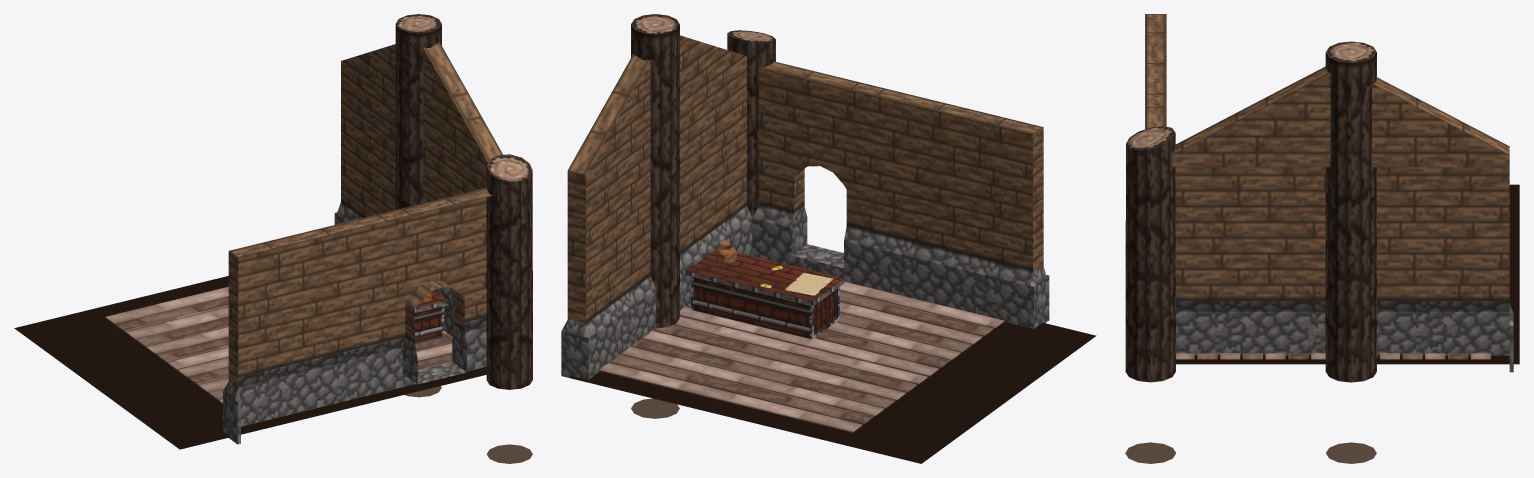
Rendered from TitleScreen.fbx.
The picture shows the model from 3 angles, left to right: view 1: azimuth 30°, elevation 25°; view 2: azimuth 150°, elevation 25°; view 3: azimuth 270°, elevation 25°; orthographic projection. The views are drawn at different scales.
Visible parts, largest first — view 1: Counter; view 2: Counter, Counter.001; view 3: Counter.
Boxes of the visible parts, x1,y1,x2,y2 form: Counter: [14, 14, 532, 463]; Counter: [561, 14, 1096, 463]; Counter.001: [785, 272, 833, 295]; Counter: [1125, 14, 1519, 463].
Size of the model in its own units: 2693 by 2687 by 2397.
Materials: 6 (5 with a texture image).
